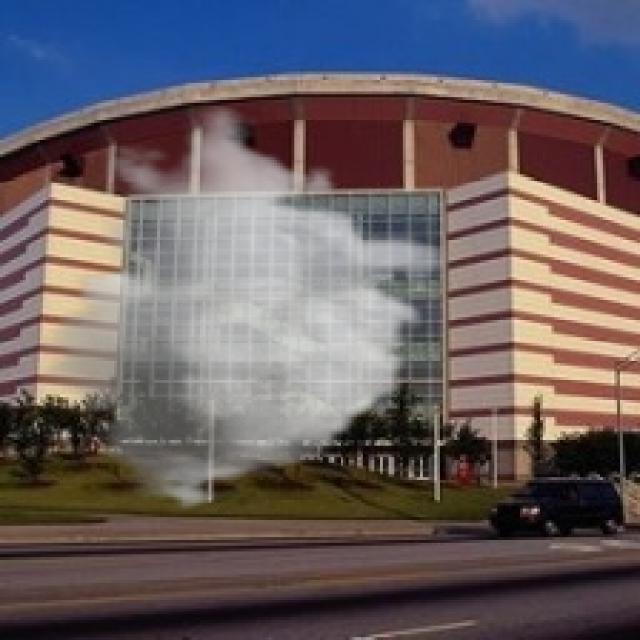smoke: (32, 103, 454, 511)
